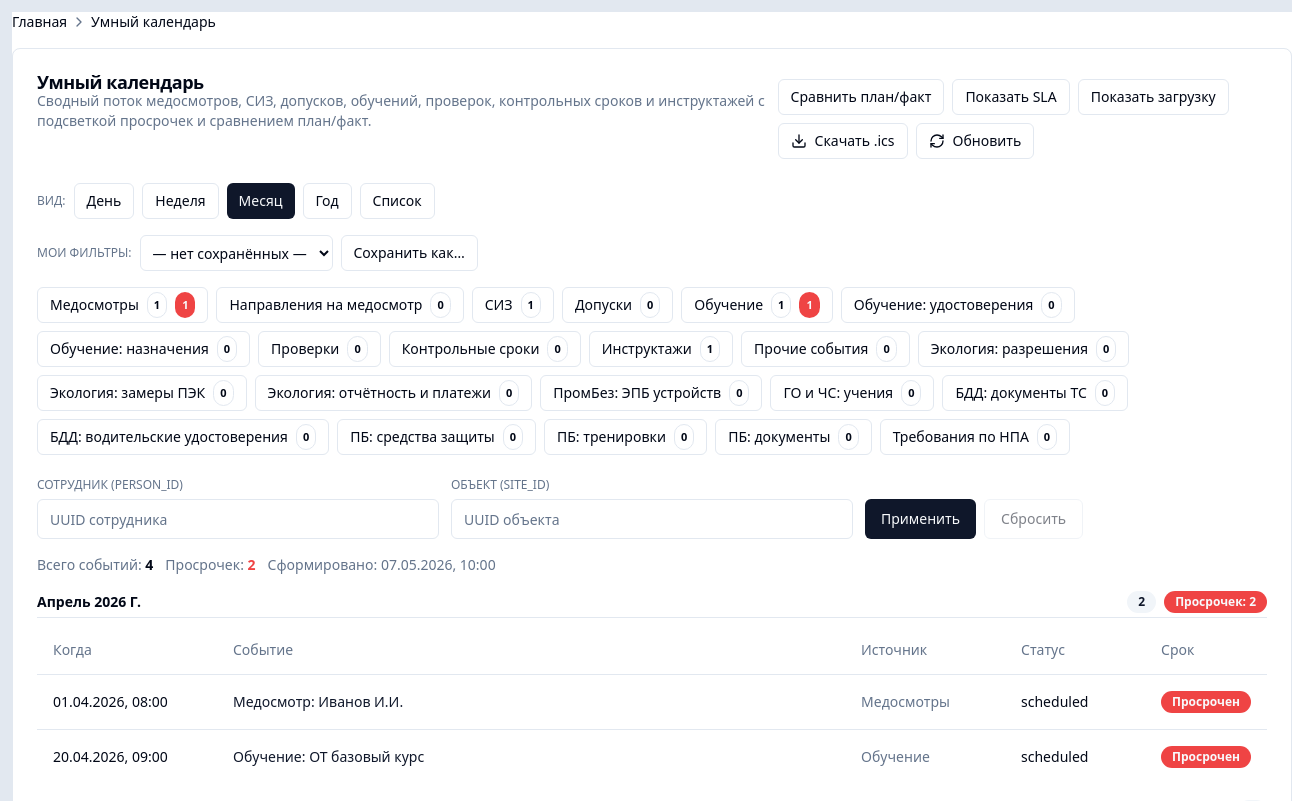
Test: CalendarPage › toggles plan/fact mode and reissues request with include_fact=true
Expected: the link "Медосмотр: Иванов И.И." is shown, [233,692,403,710]
Step 1. Click the button "Сравнить план/факт" → (861, 97), box [778,79,944,115]
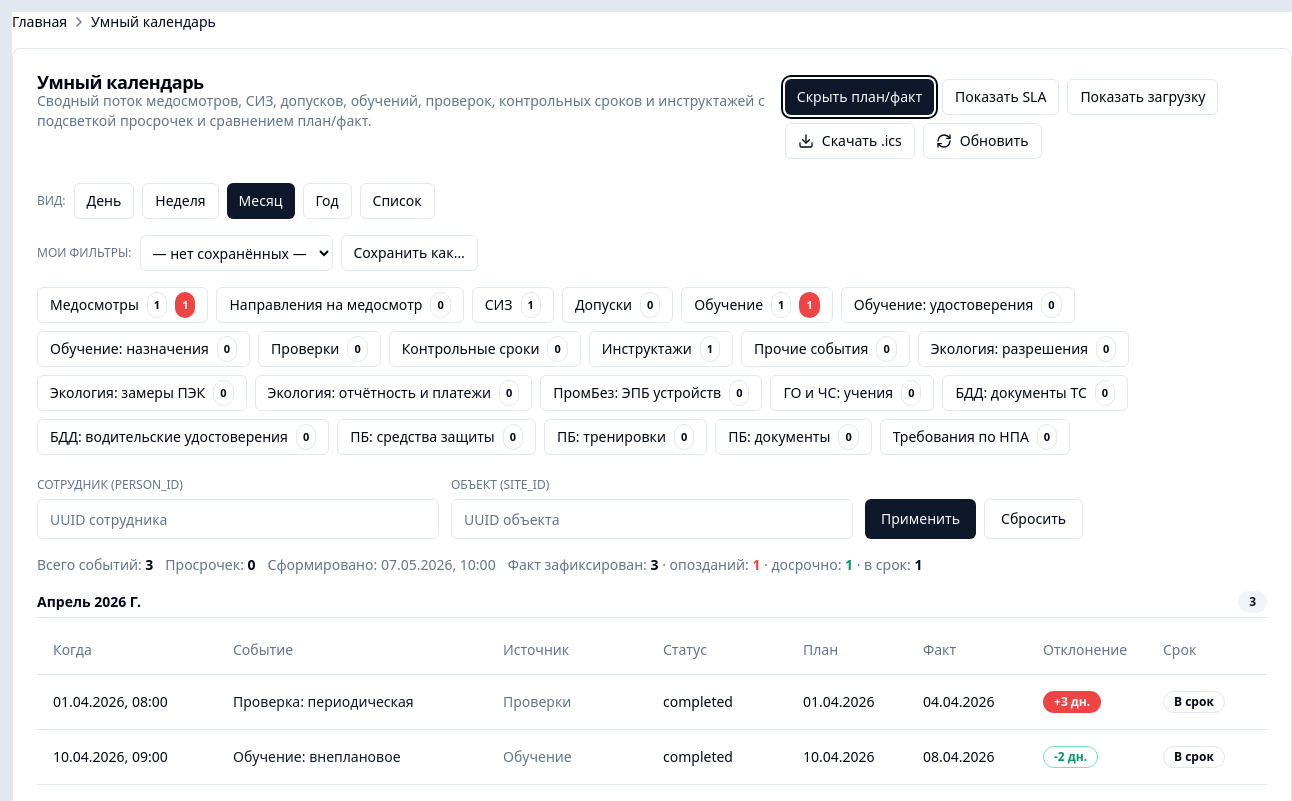
Now the link "Проверка: периодическая" is shown, box [233,692,414,710]
Now the button "Скрыть план/факт" is shown, box [785,79,934,115]
Now the column heading "План" is shown, box [787,626,907,674]
